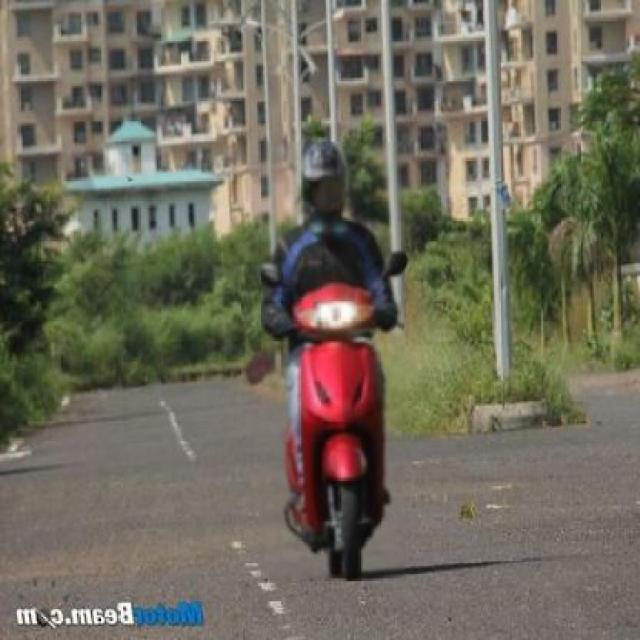helmet: (290, 140, 358, 240)
motorcycle: (256, 134, 435, 588)
